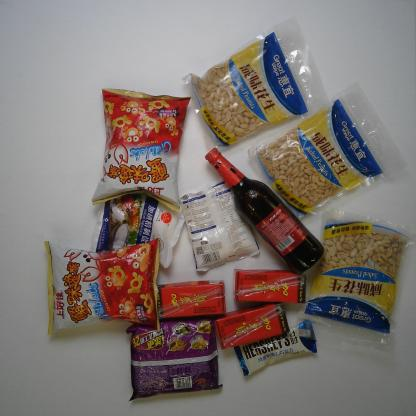Alcohol: (204, 147, 326, 275)
Chocolate: (232, 319, 318, 377)
Dried Fruit: (248, 82, 408, 220), (181, 17, 333, 151), (296, 200, 413, 349)
Drink: (214, 301, 291, 351), (154, 280, 227, 320), (231, 268, 308, 304)
Instant Noodles: (124, 317, 223, 403)
Puffed Food: (90, 87, 193, 214), (43, 235, 162, 336)
Seasoner: (178, 180, 262, 273), (88, 200, 186, 269)
